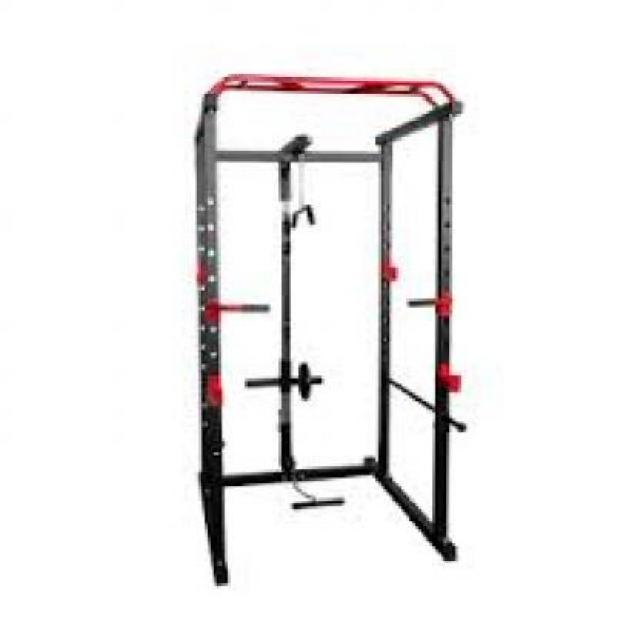smith machine: (192, 72, 470, 591)
